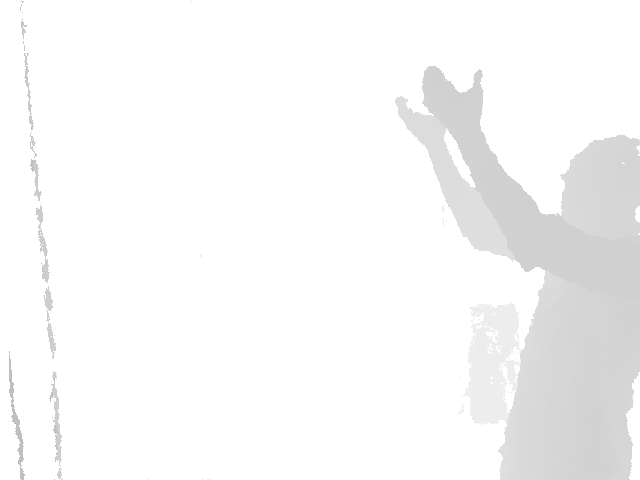hand: (422, 64, 484, 127), (395, 95, 450, 140)
head: (558, 135, 640, 233)
person: (395, 65, 640, 480)
